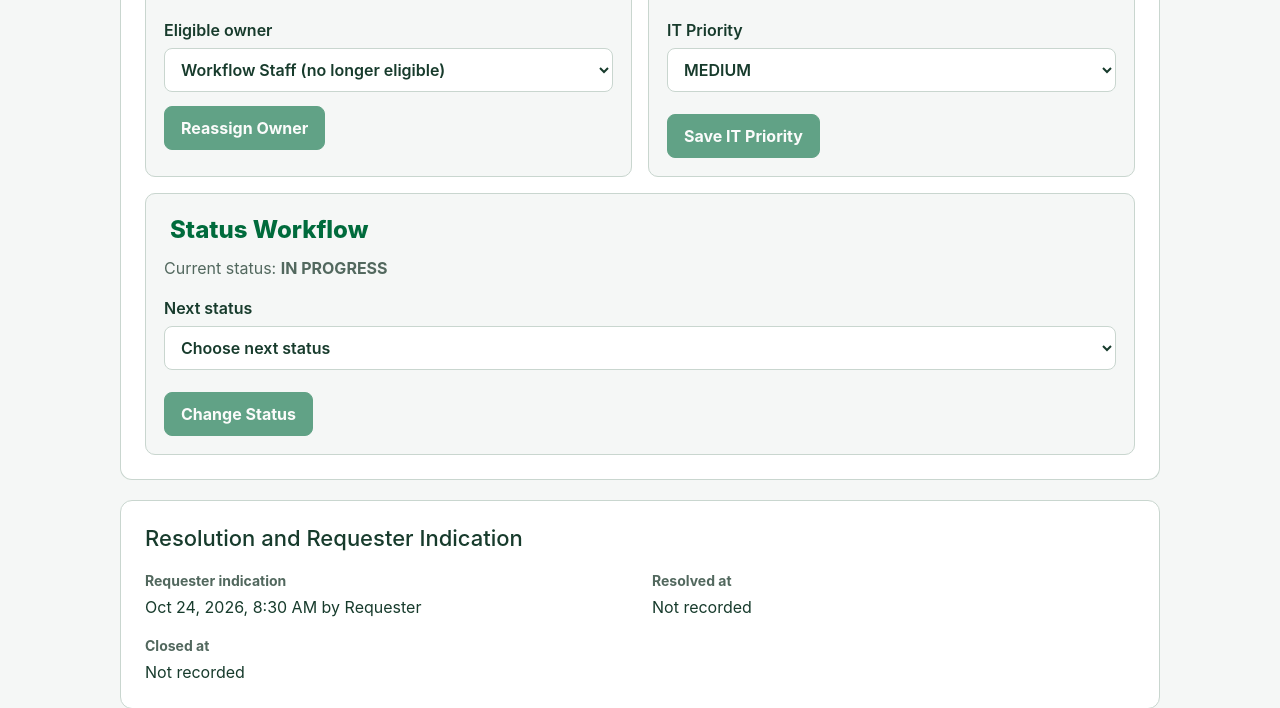
Scenario: Lab 4 Ticket workflow UI › refreshes authoritative summary after a successful status change
(page scrolled)
Select "WAITING FOR REQUESTER" in the dropdown labelled "Next status". click: (640, 348)
box: [164,326,1116,370]
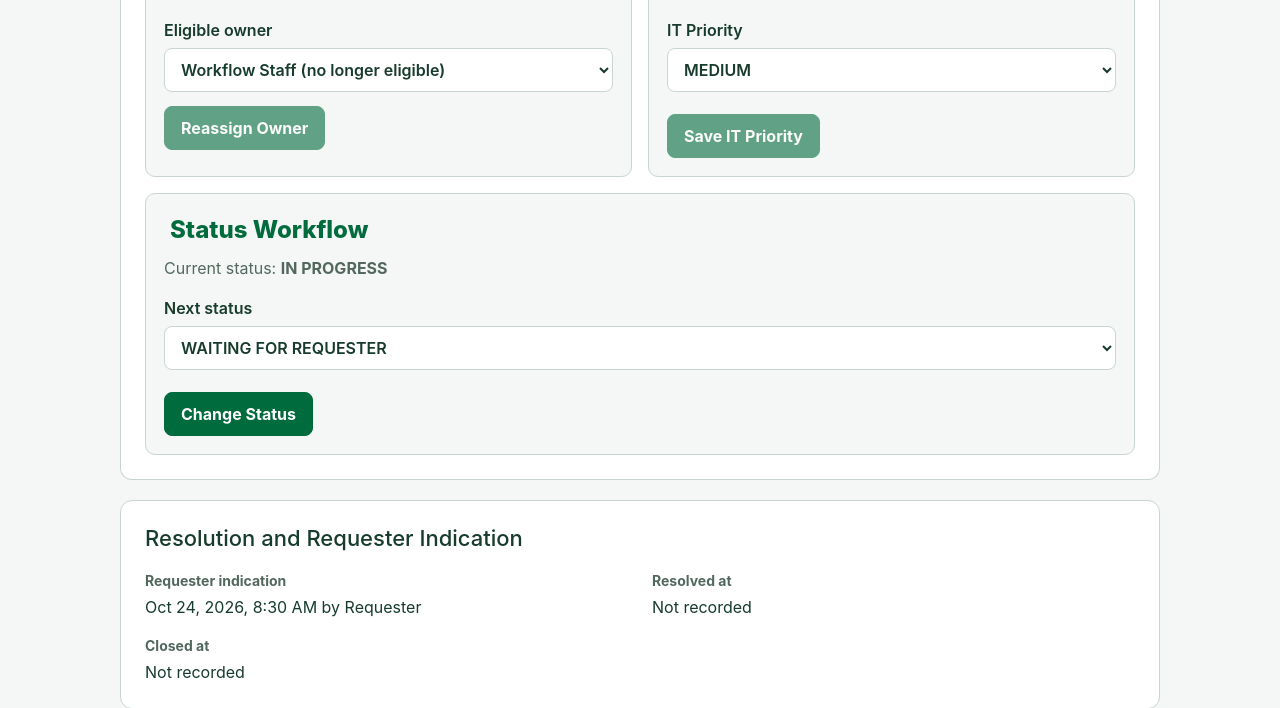
Click the button "Change Status". click: (238, 414)
box: [164,392,313,436]
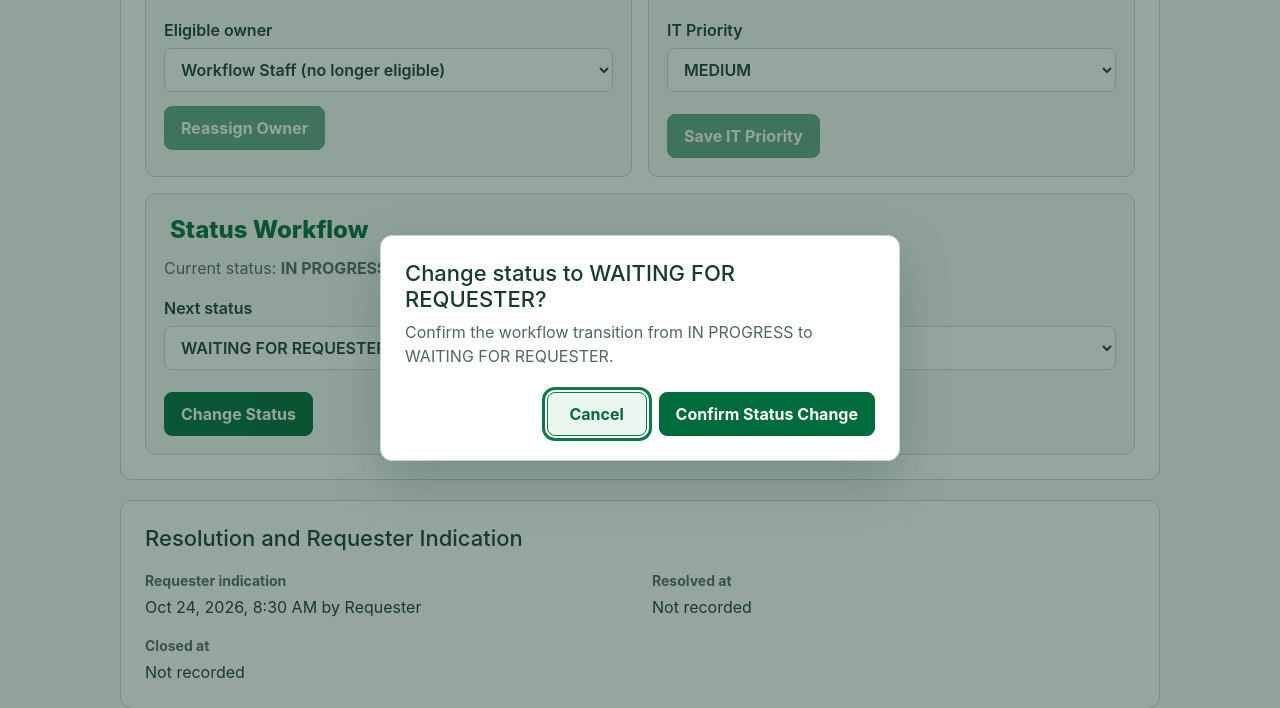
Click the button "Confirm Status Change". click: (767, 414)
box: [659,392,875,436]
(page scrolled)
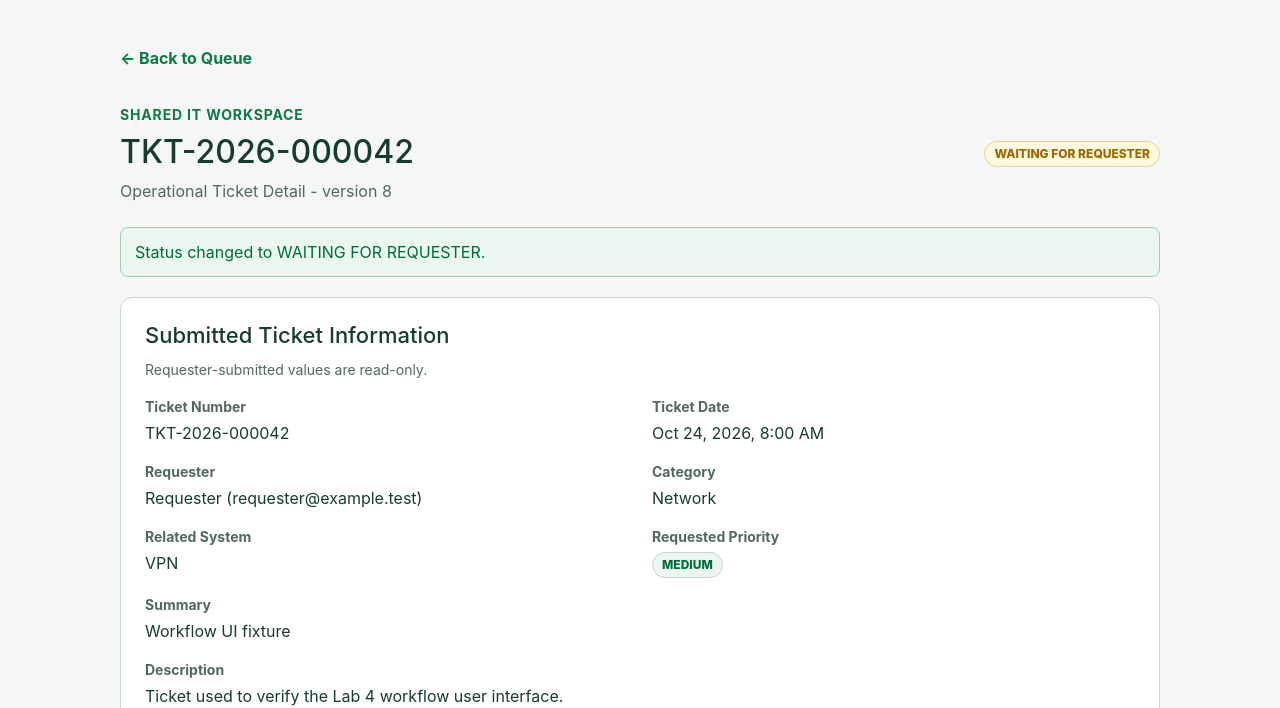
Expected: the text "Status changed to WAITING FOR REQUESTER." is shown, [120,227,1160,277]
Expected: the text "WAITING FOR REQUESTER" is shown, [984,141,1160,167]
Expected: the text "Operational Ticket Detail - version 8" is shown, [120,179,414,203]
